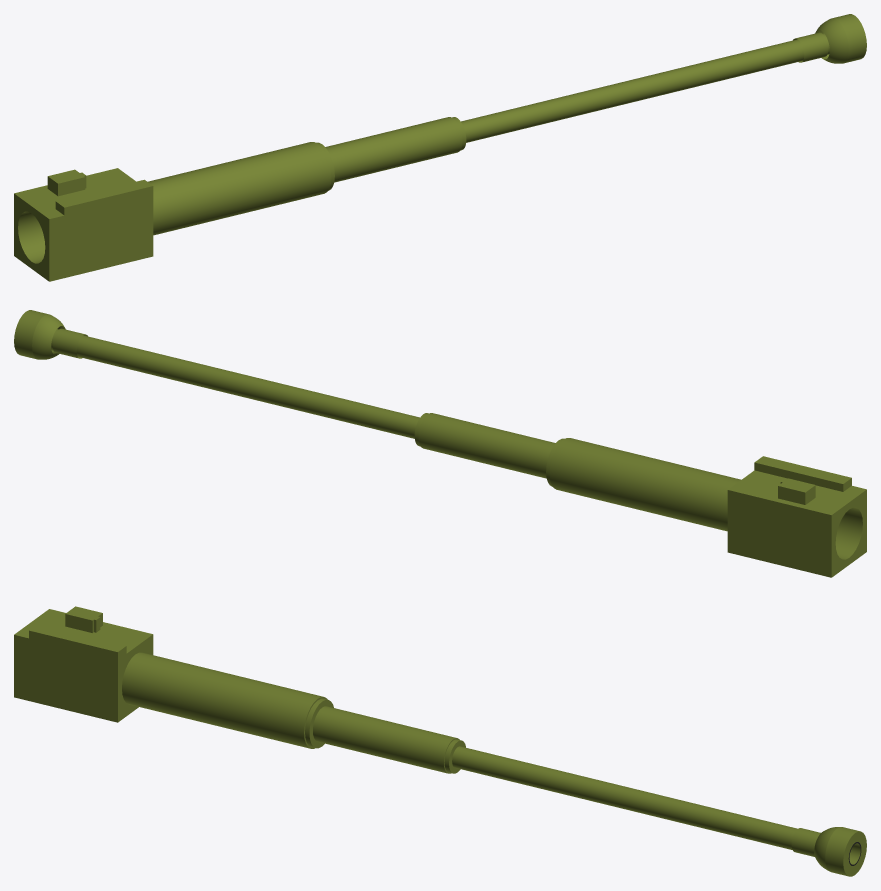
File: howitzerCannon.obj
3 views of the same model, one above another, from view 1: azimuth 30°, elevation 25°; view 2: azimuth 150°, elevation 25°; view 3: azimuth 330°, elevation 25° (orthographic).
Visible parts, largest first — view 1: Mesh1 Component_222_1 Model, Mesh2 Component_222_1 Model; view 2: Mesh1 Component_222_1 Model, Mesh2 Component_222_1 Model; view 3: Mesh1 Component_222_1 Model, Mesh2 Component_222_1 Model.
Part boxes in pixels (left/top/right/bottom): Mesh1 Component_222_1 Model: left=14, top=14, right=866, bottom=281; Mesh2 Component_222_1 Model: left=793, top=32, right=828, bottom=62; Mesh1 Component_222_1 Model: left=14, top=310, right=866, bottom=577; Mesh2 Component_222_1 Model: left=52, top=328, right=87, bottom=358; Mesh1 Component_222_1 Model: left=14, top=606, right=866, bottom=876; Mesh2 Component_222_1 Model: left=791, top=828, right=820, bottom=856.
Size of the model in its own units: 5.47 by 0.4774 by 0.4069.
